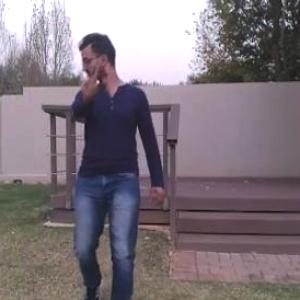takeoff-hand: (78, 47, 113, 98)
